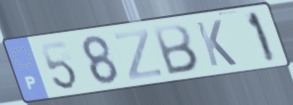1: (245, 10, 280, 66)
5: (37, 39, 80, 92)
8: (80, 34, 121, 87)
B: (151, 22, 201, 77)
K: (193, 18, 240, 69)
Z: (113, 27, 165, 82)
